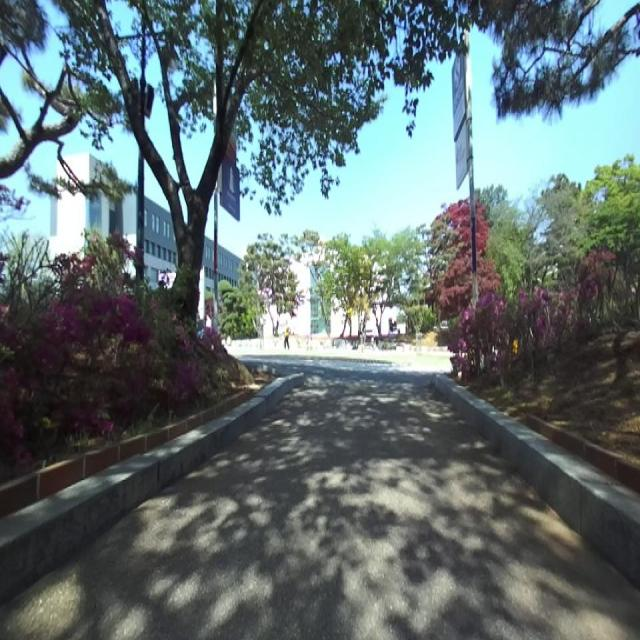sidewalk: (0, 376, 640, 639)
